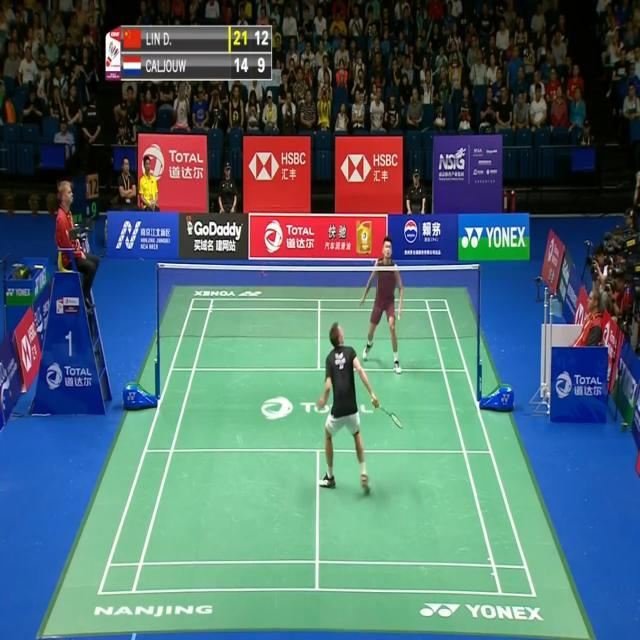Player1: (314, 318, 402, 500)
Player2: (355, 228, 409, 374)
